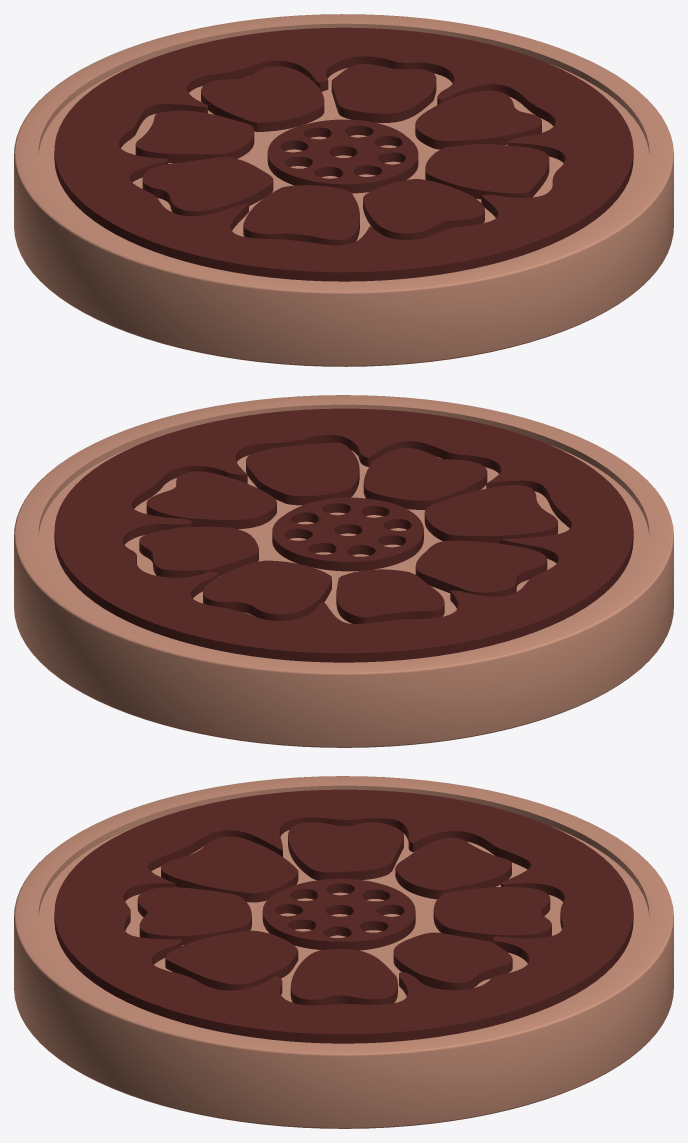
File: WhiteLotus_W.fbx
The picture shows the model from 3 angles, top to bottom: view 1: azimuth 30°, elevation 25°; view 2: azimuth 150°, elevation 25°; view 3: azimuth 270°, elevation 25°; orthographic projection.
Parts seen in each view (by area): view 1: Tile01; view 2: Tile01; view 3: Tile01.
Boxes of the visible parts, bbox=[...] form: Tile01: bbox=[14, 14, 673, 366]; Tile01: bbox=[14, 395, 673, 747]; Tile01: bbox=[14, 776, 673, 1128].
Bounding box in the file's own units: 13.25 × 1.73 × 13.25.
